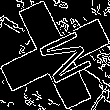M_SW: (22, 23, 88, 87)
